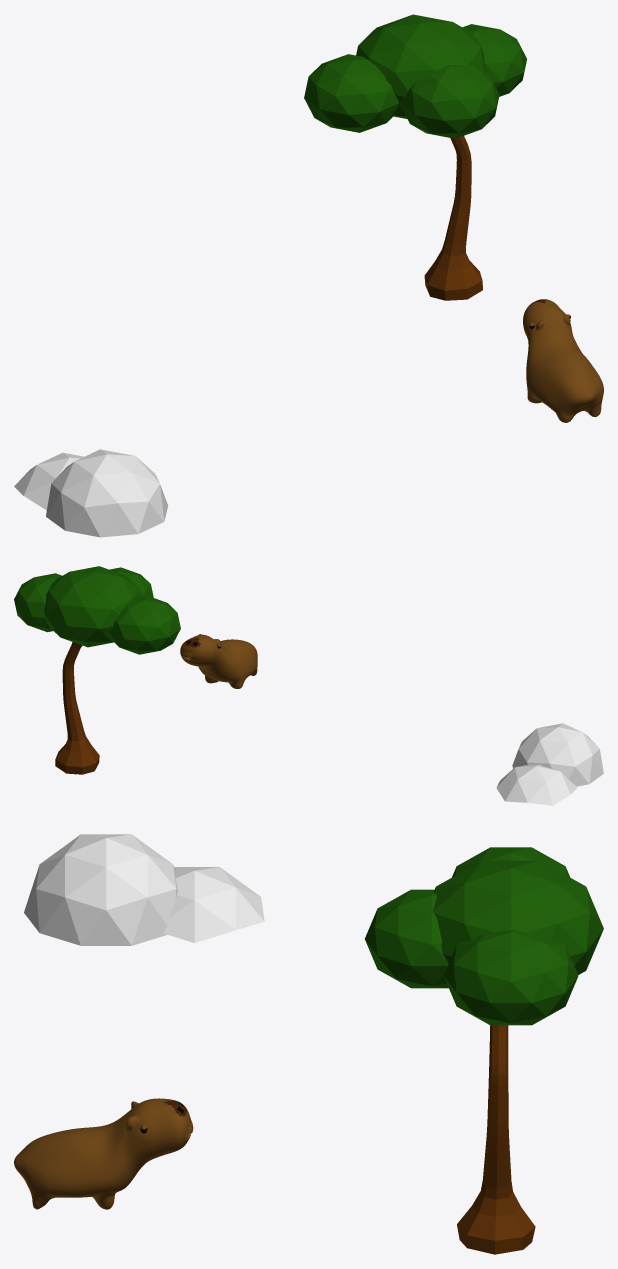
The model's file is ok i pull up.fbx.
3 views of the same model, one above another, from view 1: azimuth 30°, elevation 25°; view 2: azimuth 150°, elevation 25°; view 3: azimuth 270°, elevation 25° (orthographic). The views are drawn at different scales.
Parts seen in each view (by area): view 1: Plane.004, Icosphere, ok i pull up; view 2: Plane.004, Icosphere, ok i pull up; view 3: Plane.004, Icosphere, ok i pull up.
Part boxes in pixels (left/top/right/bottom): Plane.004: left=304, top=14, right=526, bottom=300; Icosphere: left=14, top=449, right=168, bottom=537; ok i pull up: left=523, top=299, right=603, bottom=422; Plane.004: left=14, top=566, right=180, bottom=774; Icosphere: left=496, top=723, right=603, bottom=805; ok i pull up: left=180, top=634, right=257, bottom=688; Plane.004: left=365, top=847, right=603, bottom=1254; Icosphere: left=24, top=834, right=264, bottom=945; ok i pull up: left=14, top=1098, right=193, bottom=1209.
Size of what is drawn, in the model's own units: 1807 by 766 by 1135.
